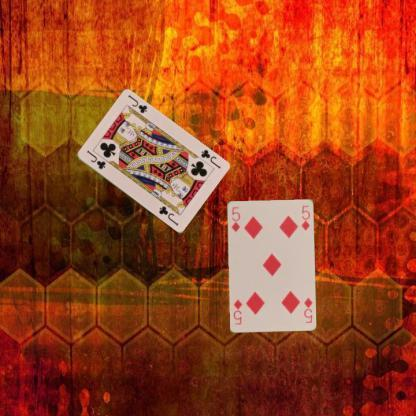5d: (229, 204, 241, 233), (301, 295, 313, 324)
Jc: (198, 147, 222, 170), (84, 147, 107, 170)
